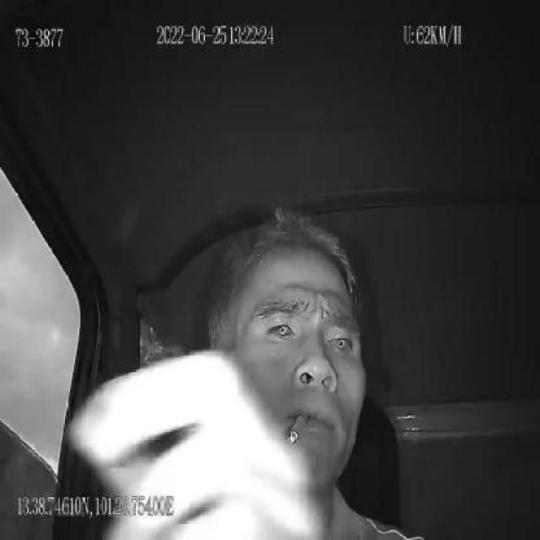smoking: (286, 413, 309, 445)
